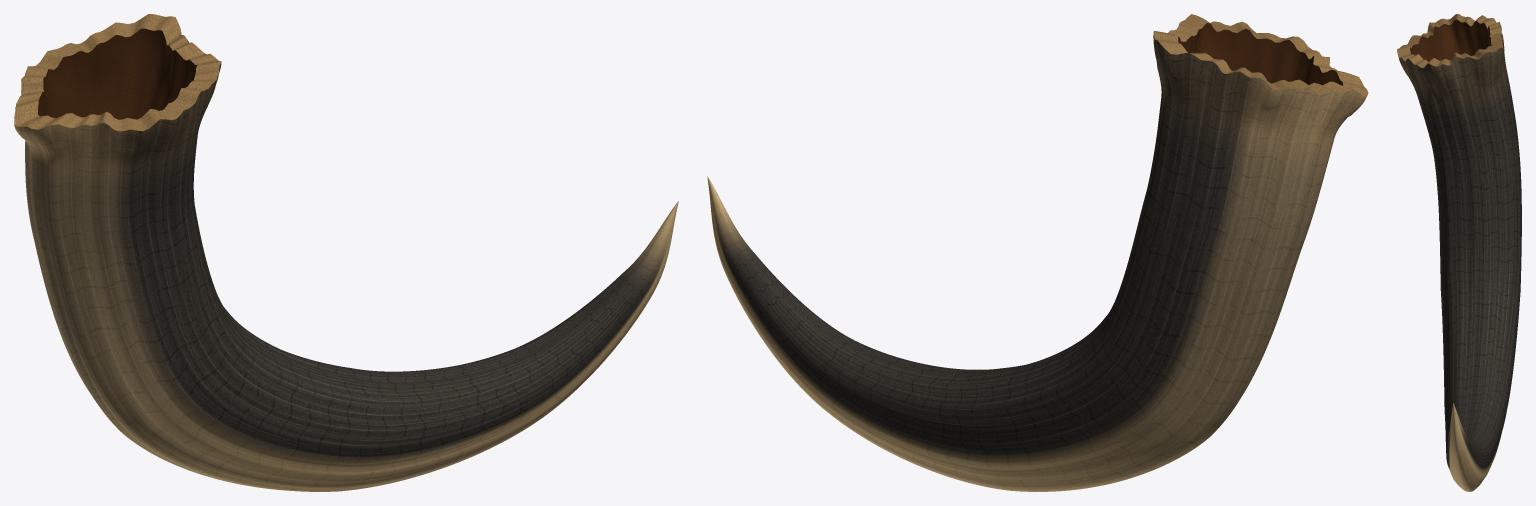
File: cinder_tusk.glb
3 views of the same model, side by side, from view 1: azimuth 30°, elevation 25°; view 2: azimuth 150°, elevation 25°; view 3: azimuth 270°, elevation 25° (orthographic). The views are drawn at different scales.
Visible parts, largest first — view 1: cinder_tusk natural keratin, cinder_tusk porous root interior, cinder_tusk exposed chipped root; view 2: cinder_tusk natural keratin, cinder_tusk porous root interior, cinder_tusk exposed chipped root; view 3: cinder_tusk natural keratin, cinder_tusk porous root interior, cinder_tusk exposed chipped root.
Boxes of the visible parts, x1,y1,x2,y2 form: cinder_tusk natural keratin: [14, 62, 678, 491]; cinder_tusk porous root interior: [38, 28, 197, 119]; cinder_tusk exposed chipped root: [14, 14, 221, 131]; cinder_tusk natural keratin: [707, 27, 1367, 491]; cinder_tusk porous root interior: [1178, 23, 1343, 85]; cinder_tusk exposed chipped root: [1154, 14, 1368, 97]; cinder_tusk natural keratin: [1399, 26, 1521, 491]; cinder_tusk porous root interior: [1410, 19, 1491, 61]; cinder_tusk exposed chipped root: [1397, 14, 1502, 67].
Bounding box in the file's own units: 0.5524 × 0.4039 × 0.132.
Materials: 3 (3 with a texture image).
